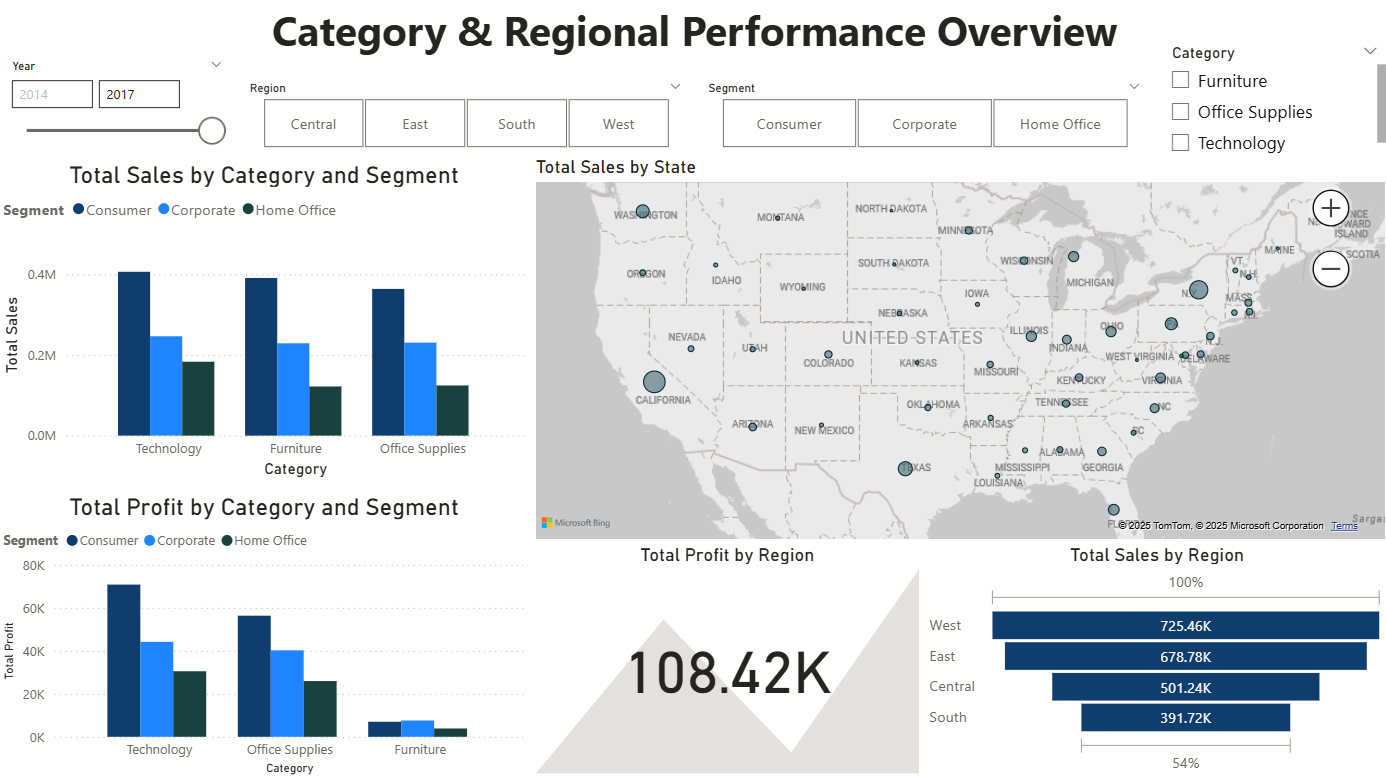

Layout of this report page (visuals, bound fields, positions):
{"tool":"powerbi","page":{"name":"Category & Region Analysis","canvas":[1280,720],"ordinal":2},"visuals":[{"type":"textbox","box":[218.6,0,844.3,72.9],"z":0},{"type":"funnel","title":"Total Sales by Region","fields":{"Y":["Cleaned_Superstore.Total Sales"],"Category":["Cleaned_Superstore.Region"]},"box":[851.9,502.6,428.6,216.9],"z":1000},{"type":"kpi","fields":{"TrendLine":["Cleaned_Superstore.Region"],"Indicator":["Cleaned_Superstore.Total Profit"]},"box":[489.6,502.6,362.3,216.9],"z":2000},{"type":"map","fields":{"Category":["Cleaned_Superstore.State"],"Size":["Cleaned_Superstore.Total Sales"]},"box":[489.6,145.5,790.9,357.1],"z":3000},{"type":"clusteredColumnChart","fields":{"Series":["Cleaned_Superstore.Segment"],"Category":["Cleaned_Superstore.Category"],"Y":["Cleaned_Superstore.Total Sales"]},"box":[0,150,489.5,296.5],"z":4000},{"type":"clusteredColumnChart","fields":{"Category":["Cleaned_Superstore.Category"],"Y":["Cleaned_Superstore.Total Profit"],"Series":["Cleaned_Superstore.Segment"]},"box":[0,455.8,489.5,264],"z":5000},{"type":"slicer","fields":{"Values":["DateTable.Year"]},"box":[0,51.9,218.2,93.5],"z":6000},{"type":"slicer","fields":{"Values":["Cleaned_Superstore.Region"]},"box":[218.2,72.7,422.1,72.7],"z":7000},{"type":"slicer","fields":{"Values":["Cleaned_Superstore.Category"]},"box":[1066.2,37.7,214.3,113],"z":8000},{"type":"slicer","fields":{"Values":["Cleaned_Superstore.Segment"]},"box":[640.3,72.7,422.1,72.7],"z":9000}]}

Visuals, with their boxes in screenshot pixels (x1, y1, x2, y2), scaled from the page's 1280x720 canvas onto the 1386x777 screenshot:
textbox: x1=237, y1=0, x2=1151, y2=79
"Total Sales by Region" funnel: x1=922, y1=542, x2=1385, y2=776
kpi - Cleaned_Superstore.Region x Cleaned_Superstore.Total Profit: x1=530, y1=542, x2=922, y2=776
map - Cleaned_Superstore.State x Cleaned_Superstore.Total Sales: x1=530, y1=157, x2=1385, y2=542
clusteredColumnChart - Cleaned_Superstore.Segment x Cleaned_Superstore.Category: x1=0, y1=162, x2=530, y2=482
clusteredColumnChart - Cleaned_Superstore.Category x Cleaned_Superstore.Total Profit: x1=0, y1=492, x2=530, y2=776
slicer - DateTable.Year: x1=0, y1=56, x2=236, y2=157
slicer - Cleaned_Superstore.Region: x1=236, y1=78, x2=693, y2=157
slicer - Cleaned_Superstore.Category: x1=1154, y1=41, x2=1385, y2=163
slicer - Cleaned_Superstore.Segment: x1=693, y1=78, x2=1150, y2=157
